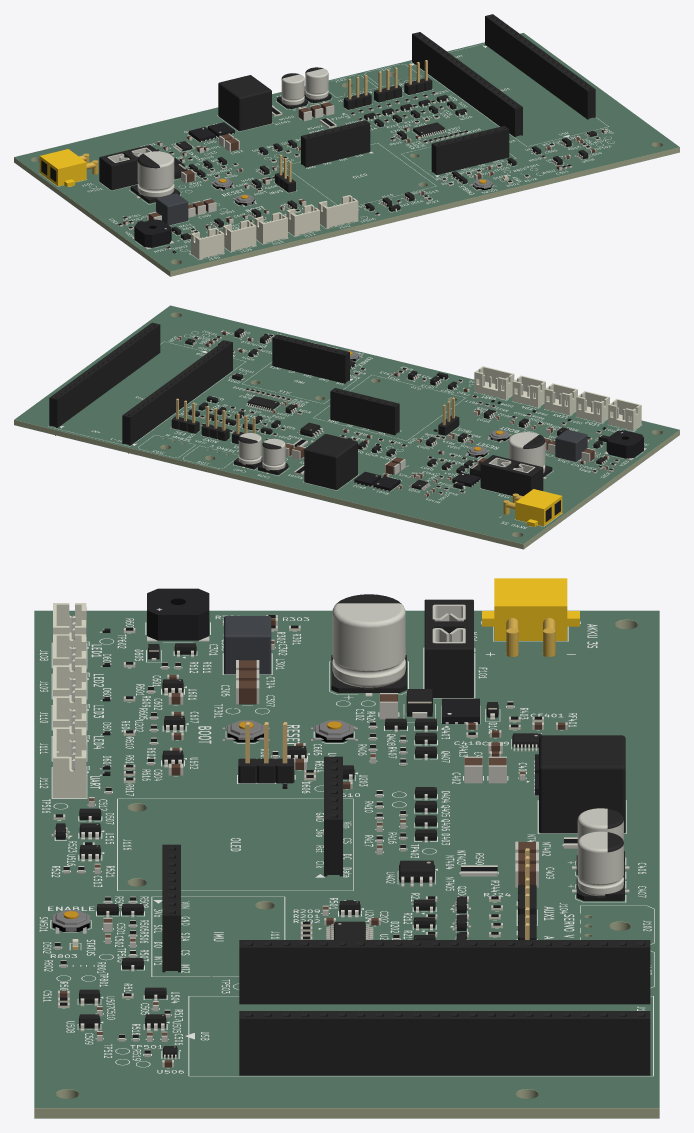
Rendered from board-view.glb.
3 renders of one model, top to bottom at view 1: azimuth 30°, elevation 25°; view 2: azimuth 150°, elevation 25°; view 3: azimuth 270°, elevation 25°, orthographic. The views are drawn at different scales.
Visible parts, largest first — view 1: =>[0:1:1:74], =>[0:1:1:76], =>[0:1:1:45] (×2), =>[0:1:1:72], =>[0:1:1:15] (×4), =>[0:1:1:31], =>[0:1:1:59], =>[0:1:1:21], =>[0:1:1:17] (×4), =>[0:1:1:43], =>[0:1:1:37] (×2), =>[0:1:1:23] (+4 smaller); view 2: =>[0:1:1:74], =>[0:1:1:76], =>[0:1:1:45] (×2), =>[0:1:1:72], =>[0:1:1:15] (×4), =>[0:1:1:31], =>[0:1:1:59], =>[0:1:1:21], =>[0:1:1:41], =>[0:1:1:37] (×2), =>[0:1:1:17] (×3), =>[0:1:1:23] (+4 smaller); view 3: =>[0:1:1:74], =>[0:1:1:76], =>[0:1:1:45] (×2), =>[0:1:1:72], =>[0:1:1:59], =>[0:1:1:43], =>[0:1:1:23], =>[0:1:1:41], =>[0:1:1:37] (×2), =>[0:1:1:15] (×4), =>[0:1:1:67], =>[0:1:1:33] (+8 smaller).
Part boxes in pixels (<box>): =>[0:1:1:74]: <box>14,33,679,271</box>; =>[0:1:1:76]: <box>14,33,679,276</box>; =>[0:1:1:45] (×2): <box>412,14,595,137</box>; =>[0:1:1:72]: <box>39,43,614,260</box>; =>[0:1:1:15] (×4): <box>191,204,319,259</box>; =>[0:1:1:31]: <box>431,126,509,175</box>; =>[0:1:1:59]: <box>218,75,271,131</box>; =>[0:1:1:21]: <box>301,120,370,167</box>; =>[0:1:1:17] (×4): <box>275,60,432,192</box>; =>[0:1:1:43]: <box>130,151,179,203</box>; =>[0:1:1:37] (×2): <box>277,67,331,108</box>; =>[0:1:1:23]: <box>39,149,98,187</box>; =>[0:1:1:74]: <box>14,305,679,543</box>; =>[0:1:1:76]: <box>14,306,679,549</box>; =>[0:1:1:45] (×2): <box>49,322,232,453</box>; =>[0:1:1:72]: <box>48,330,648,528</box>; =>[0:1:1:15] (×4): <box>512,375,641,430</box>; =>[0:1:1:31]: <box>272,334,349,383</box>; =>[0:1:1:59]: <box>304,434,357,489</box>; =>[0:1:1:21]: <box>330,388,399,435</box>; =>[0:1:1:41]: <box>480,455,543,496</box>; =>[0:1:1:37] (×2): <box>234,433,288,474</box>; =>[0:1:1:17] (×3): <box>171,397,459,440</box>; =>[0:1:1:23]: <box>503,489,562,527</box>; =>[0:1:1:74]: <box>34,610,659,1107</box>; =>[0:1:1:76]: <box>34,611,659,1118</box>; =>[0:1:1:45] (×2): <box>239,940,650,1075</box>; =>[0:1:1:72]: <box>39,615,654,1076</box>; =>[0:1:1:59]: <box>539,735,625,833</box>; =>[0:1:1:43]: <box>331,594,406,696</box>; =>[0:1:1:23]: <box>482,578,579,656</box>; =>[0:1:1:41]: <box>424,599,473,697</box>; =>[0:1:1:37] (×2): <box>572,808,629,900</box>; =>[0:1:1:15] (×4): <box>53,603,86,740</box>; =>[0:1:1:67]: <box>147,588,209,641</box>; =>[0:1:1:33]: <box>224,616,271,674</box>.
Size of the model in its own units: 0.16 by 0.0147 by 0.085.
